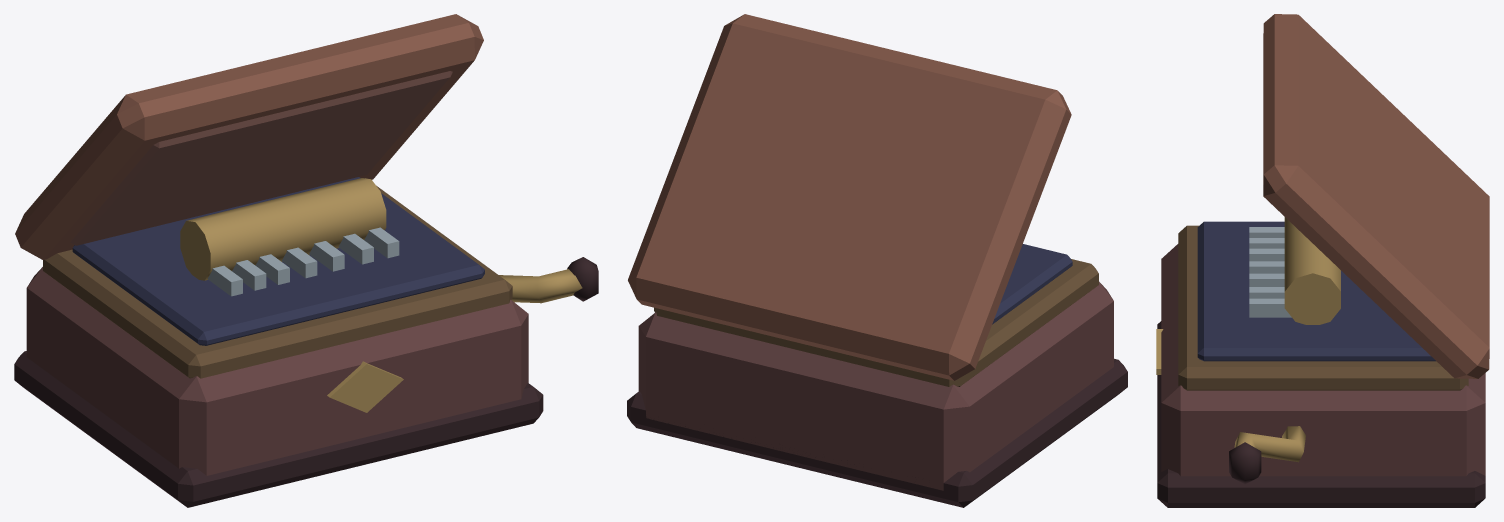
File: music_box.glb
3 views of the same model, side by side, from view 1: azimuth 30°, elevation 25°; view 2: azimuth 150°, elevation 25°; view 3: azimuth 270°, elevation 25° (orthographic). The views are drawn at different scales.
Parts seen in each view (by area): view 1: music_box; view 2: music_box; view 3: music_box.
Part boxes in pixels (<box>): music_box: <box>14,14,598,507</box>; music_box: <box>627,14,1127,507</box>; music_box: <box>1156,14,1489,507</box>.
Bounding box in the file's own units: 0.2354 × 0.1766 × 0.1575.
